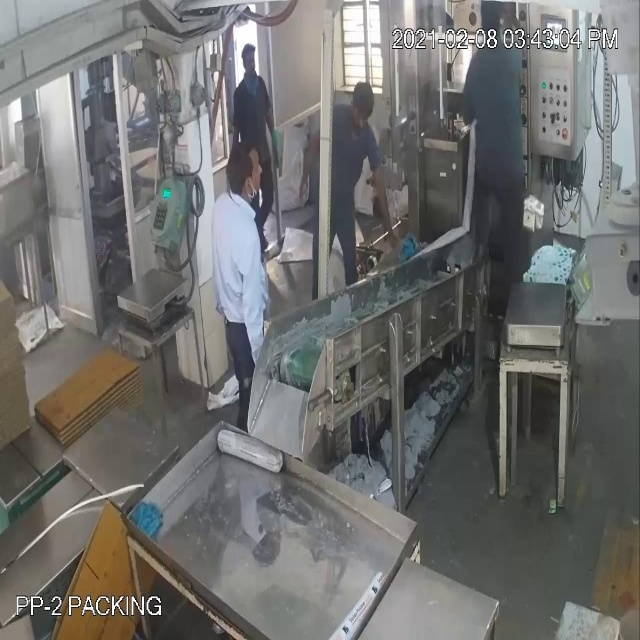Sin_guantes: (241, 236, 270, 375), (367, 145, 399, 258)
